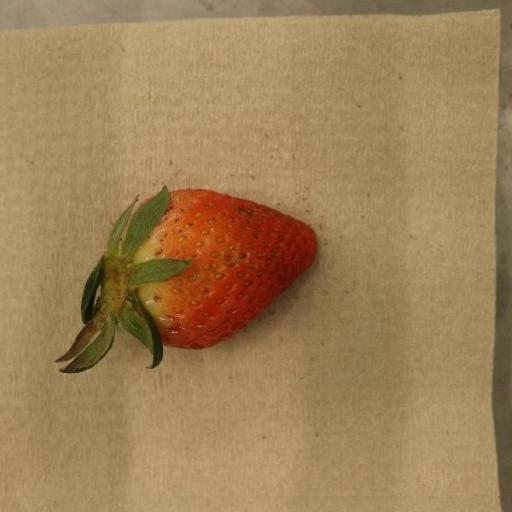Strawberry: (56, 186, 318, 375)
